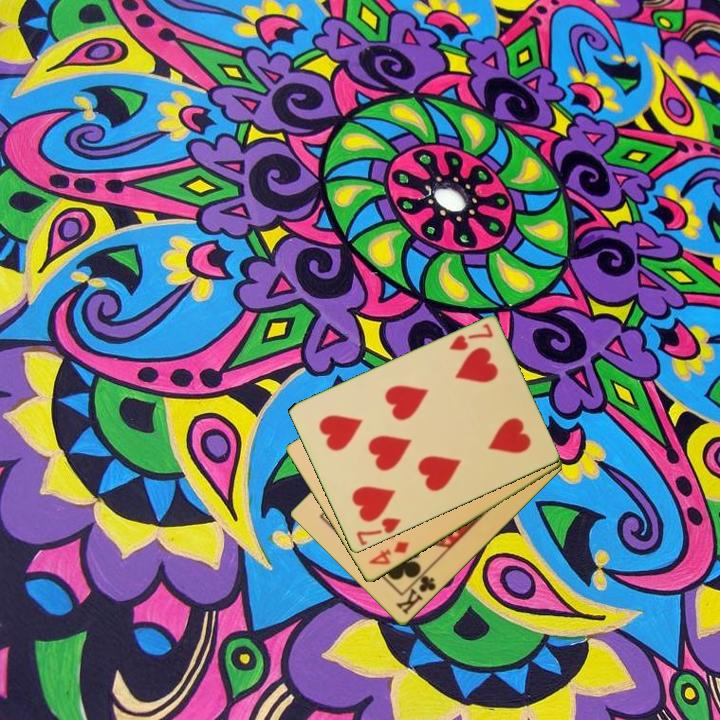4d: (365, 538, 412, 568)
7h: (353, 514, 404, 549), (445, 320, 496, 354)
Kc: (392, 567, 439, 618)
